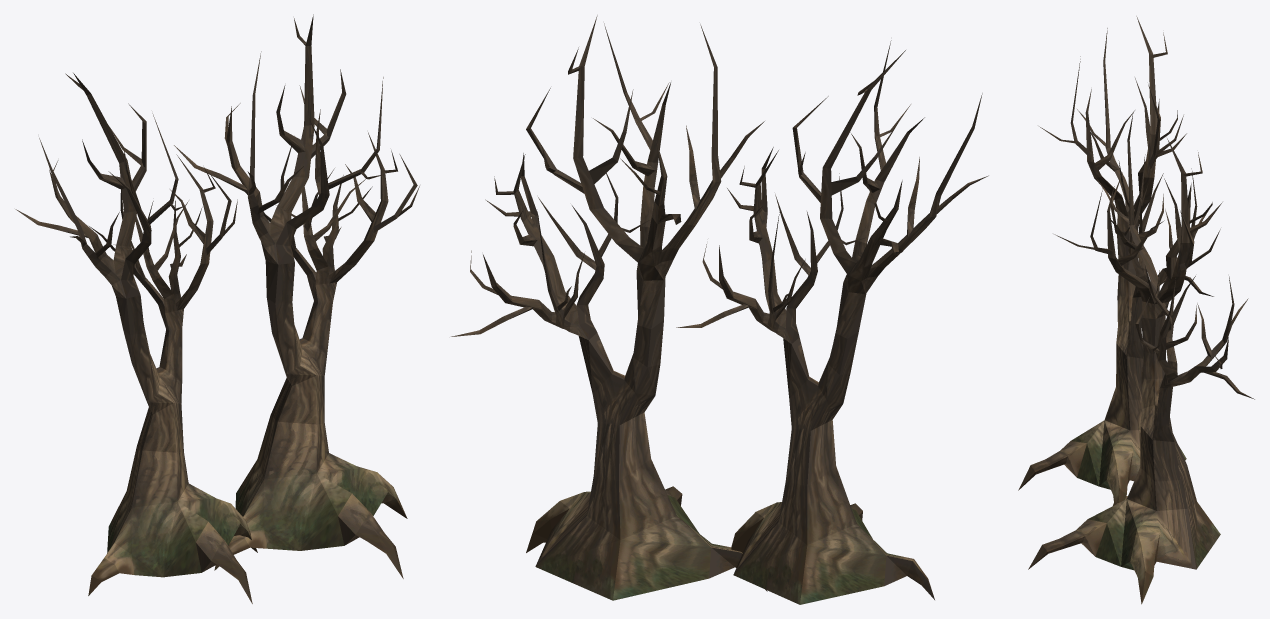
Rendered from plants_tall_tree_trunks01.fbx.
3 views of the same model, side by side, from view 1: azimuth 30°, elevation 25°; view 2: azimuth 150°, elevation 25°; view 3: azimuth 270°, elevation 25° (orthographic). The views are drawn at different scales.
Visible parts, largest first — view 1: obj0.138; view 2: obj0.138; view 3: obj0.138.
Boxes of the visible parts, x1=… form: obj0.138: x1=15, y1=14, x2=419, y2=603; obj0.138: x1=451, y1=15, x2=988, y2=604; obj0.138: x1=1018, y1=16, x2=1254, y2=604.
Size of the model in its own units: 7.64 by 9.38 by 4.48.
